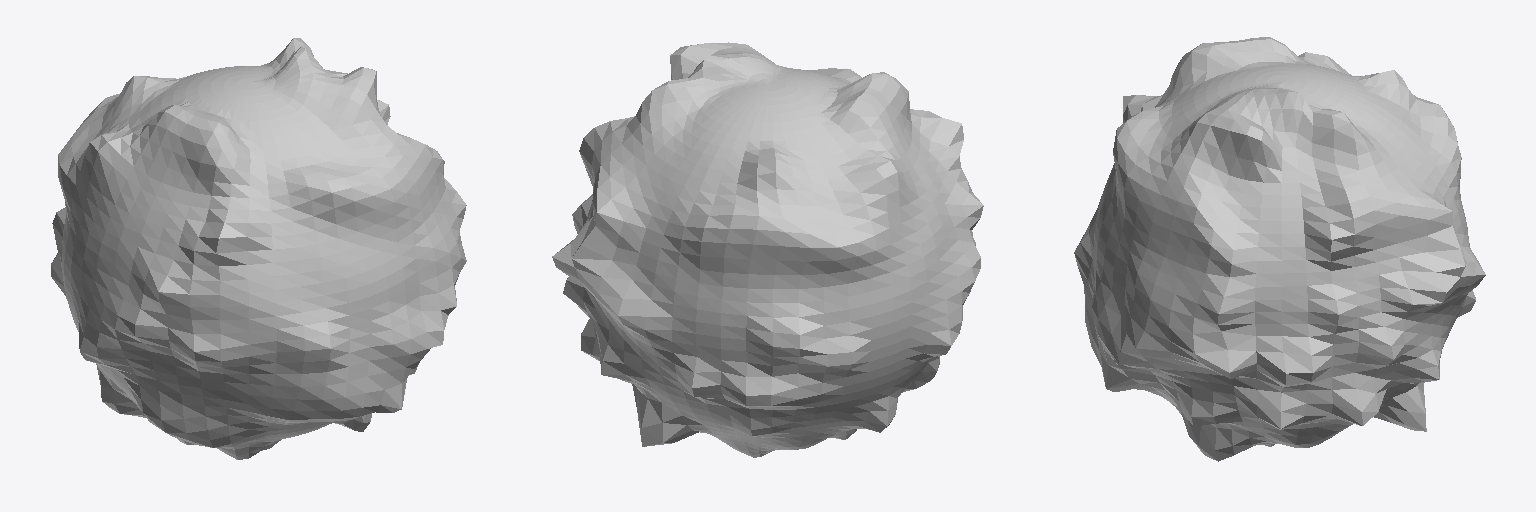
The model's file is PLANET_AERISv2.obj.
3 views of the same model, side by side, from view 1: azimuth 30°, elevation 25°; view 2: azimuth 150°, elevation 25°; view 3: azimuth 270°, elevation 25° (orthographic).
Visible parts, largest first — view 1: PLANET_ARES:pSphere1; view 2: PLANET_ARES:pSphere1; view 3: PLANET_ARES:pSphere1.
Boxes of the visible parts, <box> form: PLANET_ARES:pSphere1: <box>51,38,466,459</box>; PLANET_ARES:pSphere1: <box>552,42,983,457</box>; PLANET_ARES:pSphere1: <box>1074,37,1485,461</box>.
Bounding box in the file's own units: 2473 × 2500 × 2449.